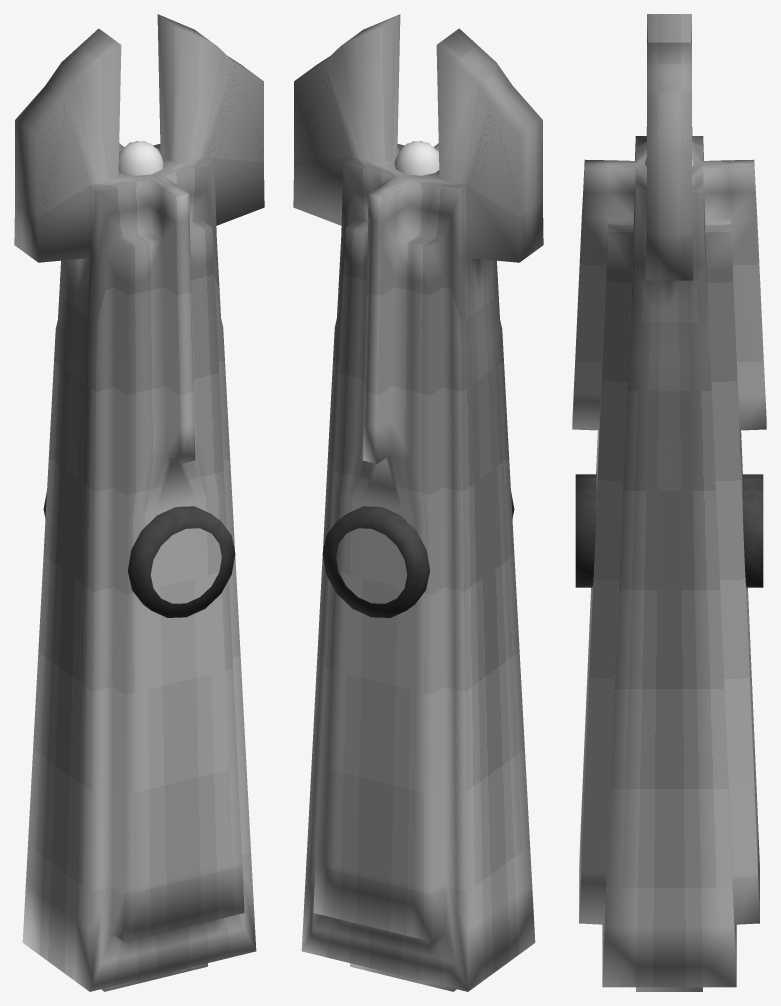
File: SpaceLaser.fbx
The picture shows the model from 3 angles, left to right: view 1: azimuth 30°, elevation 25°; view 2: azimuth 150°, elevation 25°; view 3: azimuth 270°, elevation 25°; orthographic projection.
Visible parts, largest first — view 1: Cube, Cube.001; view 2: Cube, Cube.001; view 3: Cube.
Part boxes in pixels (x1=…): Cube: x1=14, y1=14, x2=264, y2=991; Cube.001: x1=118, y1=141, x2=163, y2=175; Cube: x1=293, y1=14, x2=543, y2=991; Cube.001: x1=394, y1=141, x2=439, y2=175; Cube: x1=572, y1=14, x2=766, y2=991.
Bounding box in the file's own units: 4.14 × 16.42 × 3.09.
Materials: 3 (2 with a texture image).
